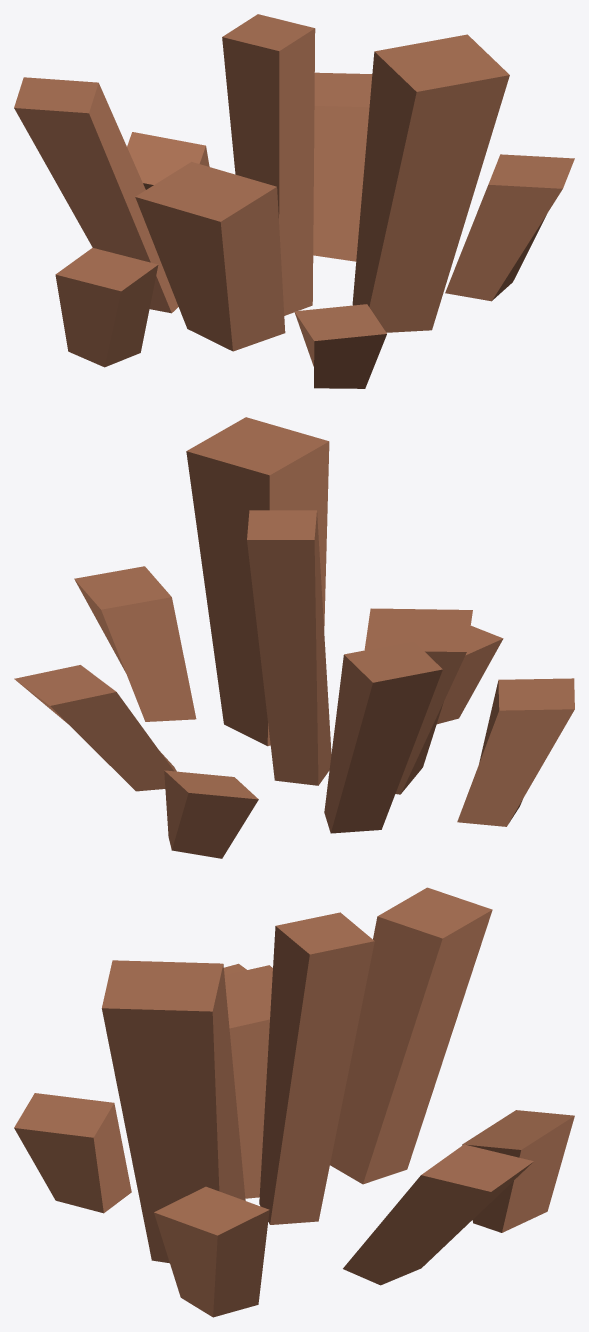
The model's file is Coral.fbx.
3 renders of one model, top to bottom at view 1: azimuth 30°, elevation 25°; view 2: azimuth 150°, elevation 25°; view 3: azimuth 270°, elevation 25°, orthographic. The views are drawn at different scales.
Visible parts, largest first — view 1: coral2, coral1, coral3, coral5, coral8, coral6, coral9, coral4, coral7; view 2: coral2, coral3, coral5, coral8, coral9, coral6, coral1, coral7, coral4; view 3: coral2, coral5, coral3, coral6, coral8, coral4, coral1, coral7.
Boxes of the visible parts, x1,y1,x2,y2 form: coral2: (352,34,509,332); coral1: (135,161,285,351); coral3: (222,14,315,315); coral5: (14,77,178,313); coral8: (445,154,574,301); coral6: (313,72,372,261); coral9: (55,247,158,367); coral4: (294,304,386,388); coral7: (127,132,209,189); coral2: (186,417,329,746); coral3: (247,510,331,785); coral5: (324,641,442,833); coral8: (74,566,196,721); coral9: (457,678,574,826); coral6: (14,665,176,791); coral1: (364,608,472,794); coral7: (164,770,258,858); coral4: (437,625,503,724); coral2: (101,960,245,1263); coral5: (330,887,492,1184); coral3: (259,912,374,1224); coral6: (343,1144,533,1285); coral8: (154,1186,269,1317); coral4: (14,1093,131,1213); coral1: (224,965,272,1198); coral7: (462,1110,574,1232).
Size of the model in its own units: 37.56 by 19 by 32.9.
